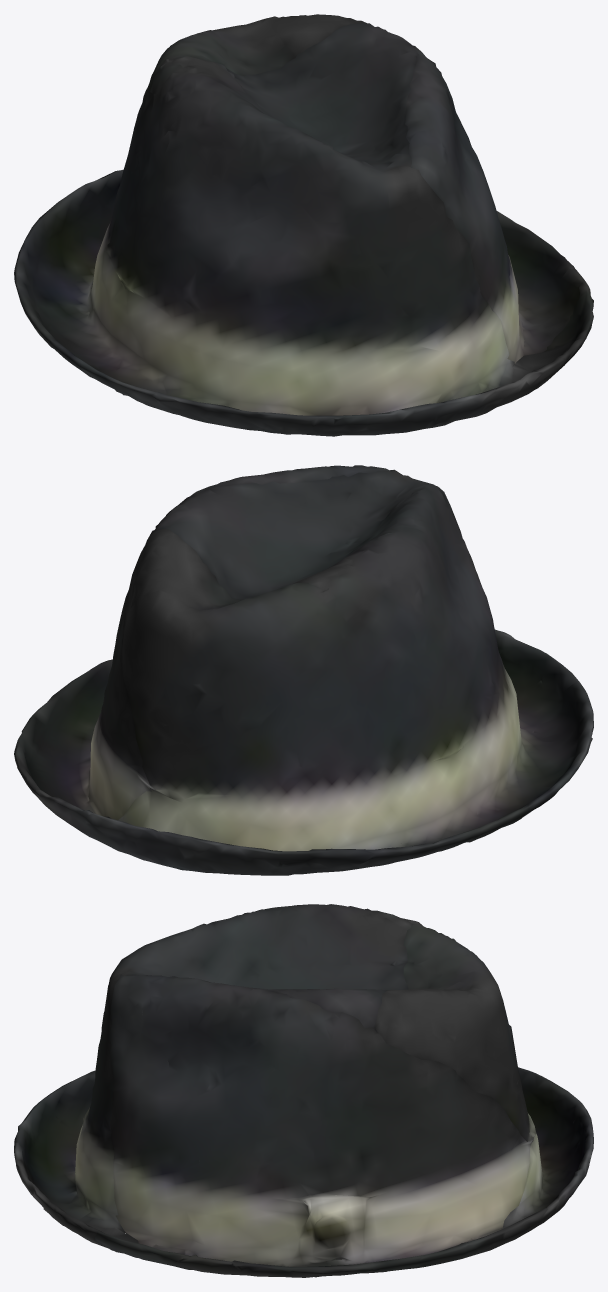
File: Retail_Leadership_Summit_tQFCizMt6g0-medium.glb
3 views of the same model, one above another, from view 1: azimuth 30°, elevation 25°; view 2: azimuth 150°, elevation 25°; view 3: azimuth 270°, elevation 25° (orthographic). The views are drawn at different scales.
Visible parts, largest first — view 1: Retail_Leadership_Summit_tQFCizMt6g0; view 2: Retail_Leadership_Summit_tQFCizMt6g0; view 3: Retail_Leadership_Summit_tQFCizMt6g0.
Boxes of the visible parts, x1,y1,x2,y2 form: Retail_Leadership_Summit_tQFCizMt6g0: (14,14,593,436); Retail_Leadership_Summit_tQFCizMt6g0: (14,465,593,875); Retail_Leadership_Summit_tQFCizMt6g0: (14,904,593,1277).
Size of the model in its own units: 0.2472 by 0.1253 by 0.2735.
1 material, 1 textured.
